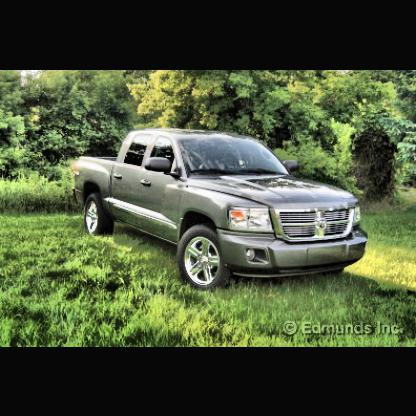Dodge Dakota Crew Cab 2010: (72, 129, 370, 293)
